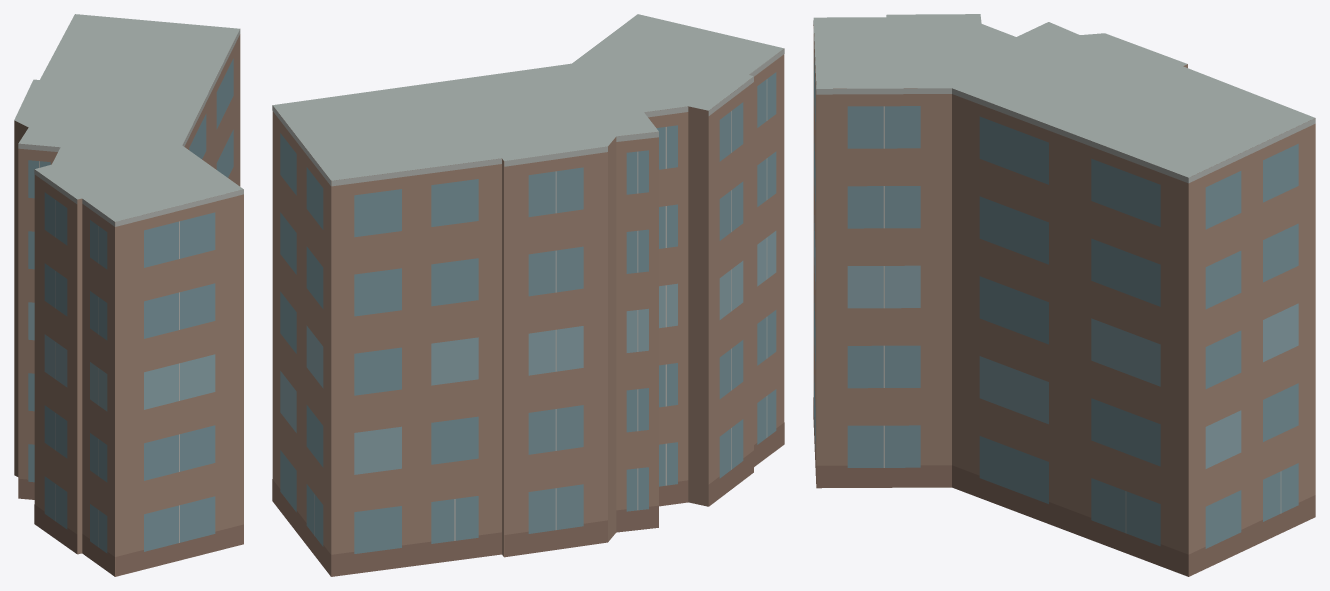
Rendered from survey-upis-32517333.glb.
3 renders of one model, left to right at view 1: azimuth 30°, elevation 25°; view 2: azimuth 150°, elevation 25°; view 3: azimuth 270°, elevation 25°, orthographic. The views are drawn at different scales.
Parts seen in each view (by area): view 1: survey-upis-32517333.tmp; view 2: survey-upis-32517333.tmp; view 3: survey-upis-32517333.tmp.
Part boxes in pixels (x1,y1,x2,y2): survey-upis-32517333.tmp: [14, 14, 243, 576]; survey-upis-32517333.tmp: [272, 14, 784, 576]; survey-upis-32517333.tmp: [813, 14, 1315, 576].
Bounding box in the file's own units: 15.05 × 17.11 × 19.51.
